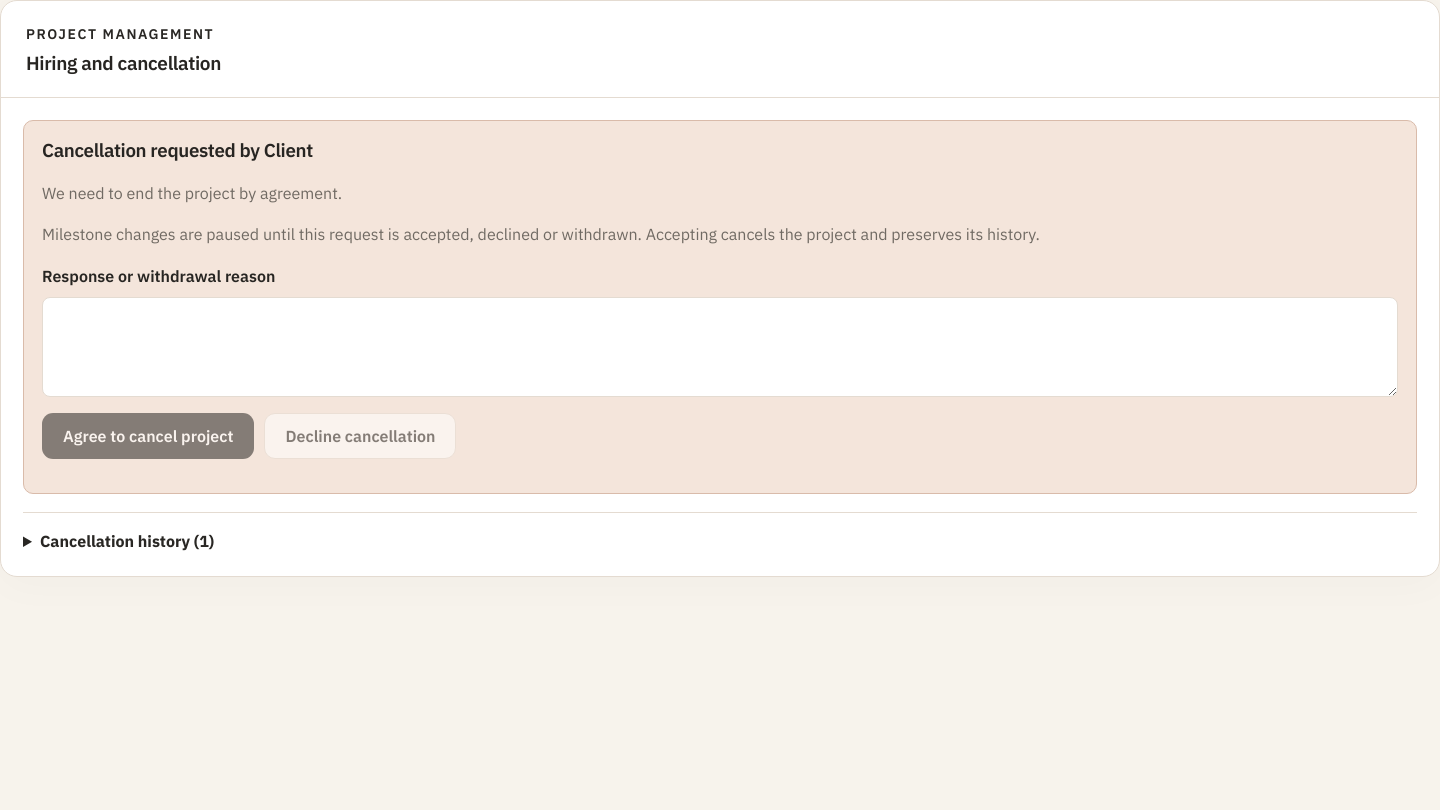
other participant can decline and stale-request errors remain visible
Type "Please continue with the original agreement." into the text box named "Cancellation response" at x=720, y=347, box [42,297,1398,397]
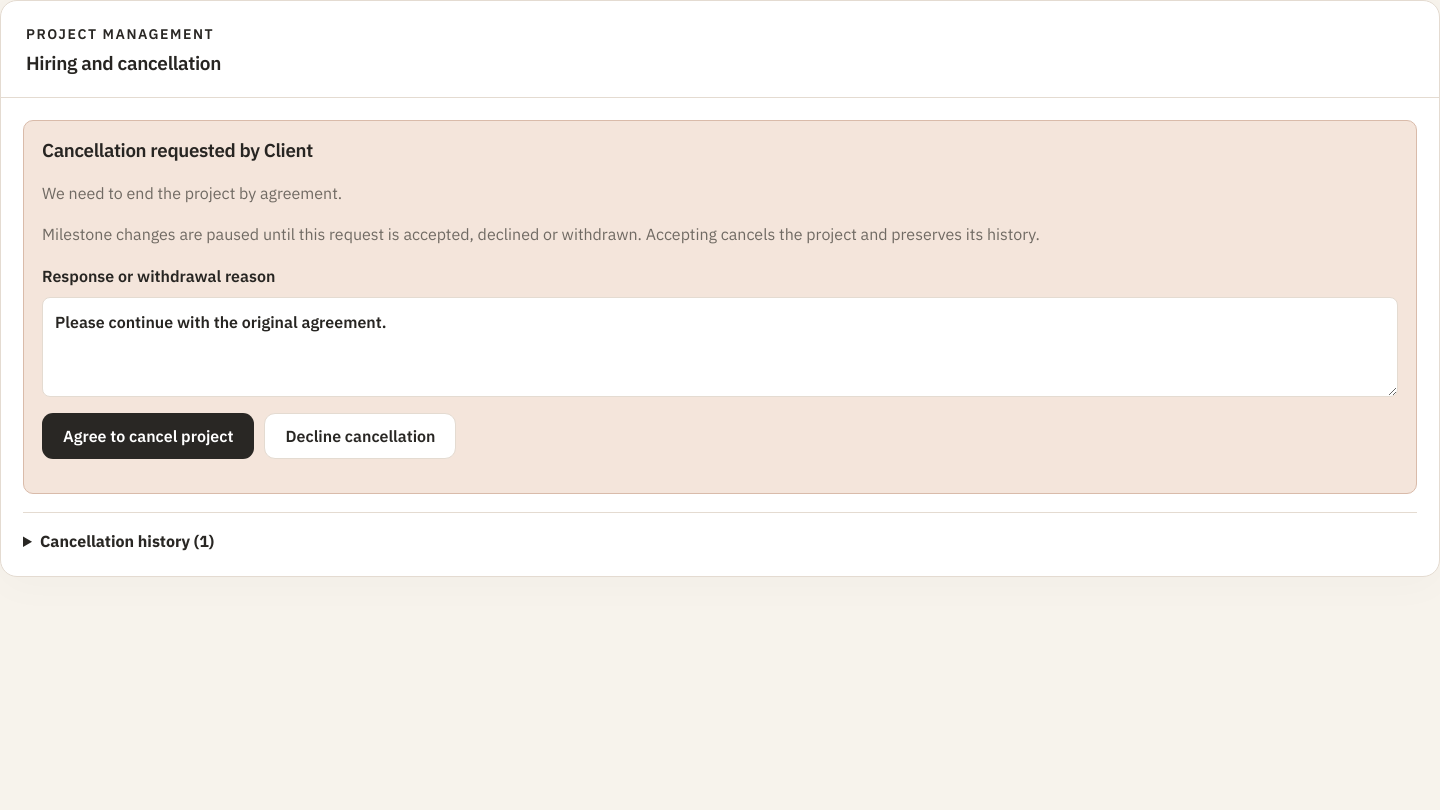
Click the button "Decline cancellation" at x=360, y=436, box [264,413,456,459]
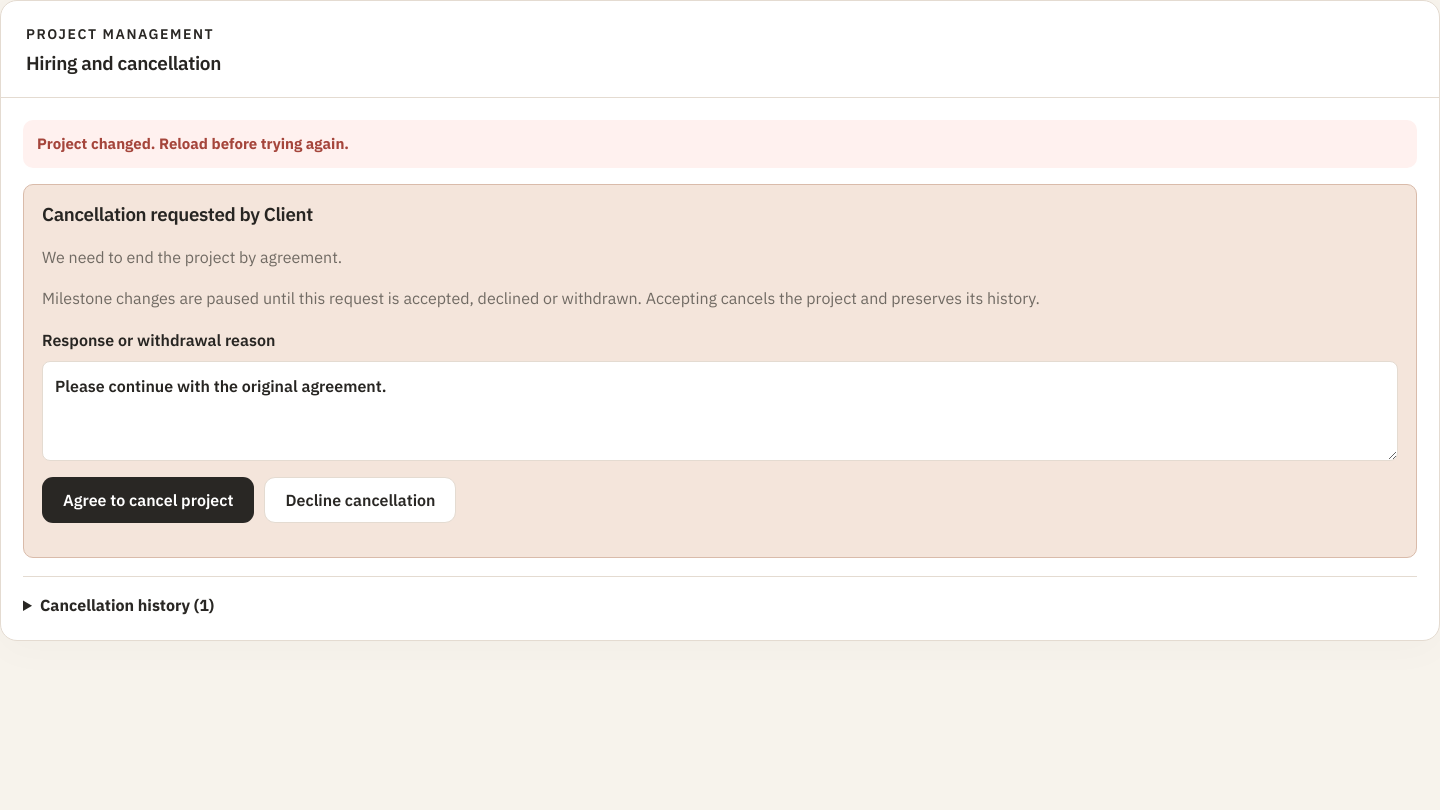
Check: the message shows "Project changed", box [37,134,349,154]
